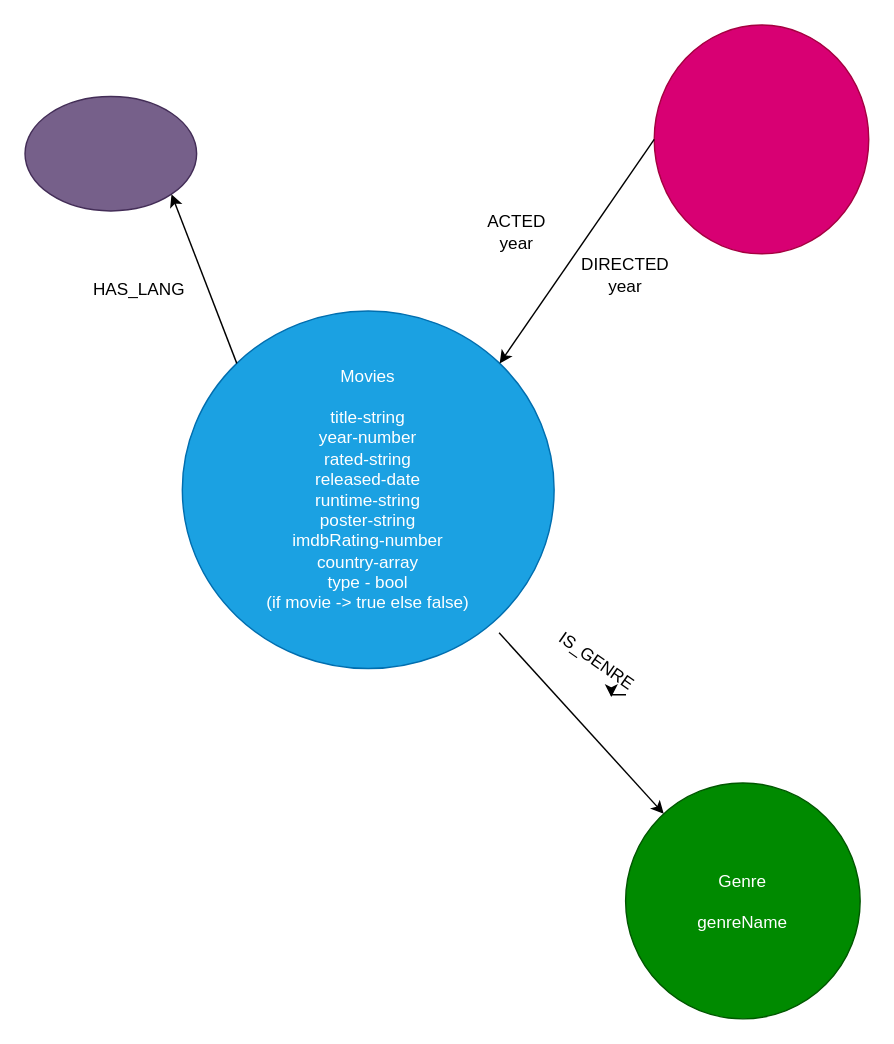
The diagram is 894 pixels wide and 1044 high, and some of its shapes have lost their labels. The centre of each missing label's shape, as x and y in pixels:
"Language" goes at (x=110, y=153).
"Person name" goes at (x=761, y=139).
